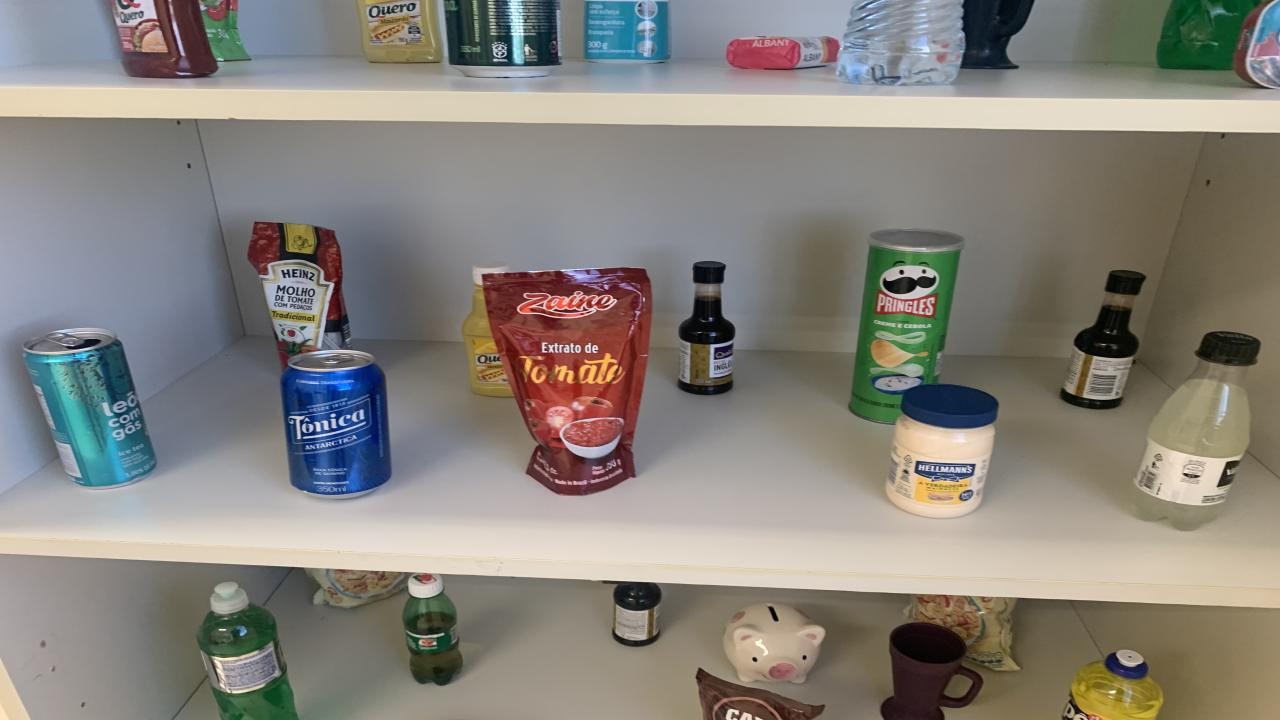Cleaner-Cleanup_Items: (582, 0, 670, 64)
Coffee-Pantry_Items: (695, 669, 825, 720)
Detergent-Cleanup_Items: (198, 581, 298, 720), (1158, 0, 1262, 69), (1062, 649, 1162, 720)
English_Sauce-Pantry_Items: (1060, 270, 1145, 409), (678, 261, 735, 396), (612, 583, 662, 645)
Flakes-Snacks: (902, 594, 1020, 671), (305, 568, 408, 608)
Guarana-Drinks: (402, 574, 462, 684)
Guarana_Can-Drinks: (445, 0, 560, 77)
Ketchup-Pantry_Items: (110, 0, 218, 77)
Mayonnaise-Pantry_Items: (885, 384, 998, 518)
Mustard-Pantry_Items: (462, 262, 512, 398), (355, 0, 442, 62)
Pig_Safe-Miscellaneous: (722, 602, 825, 682)
Pringles-Snacks: (850, 229, 965, 424)
Soap-Cleanup_Items: (725, 36, 840, 69)
Soda-Drinks: (1132, 332, 1260, 531)
Tea-Drinks: (22, 328, 155, 489)
Tomato_Sauce-Pantry_Items: (485, 268, 652, 495), (248, 221, 350, 368), (200, 0, 250, 62)
Tonic-Drinks: (280, 349, 392, 499)
Tuna_Can-Pantry_Items: (1232, 0, 1280, 88)
Water_Bottle-Drinks: (838, 0, 965, 86)
